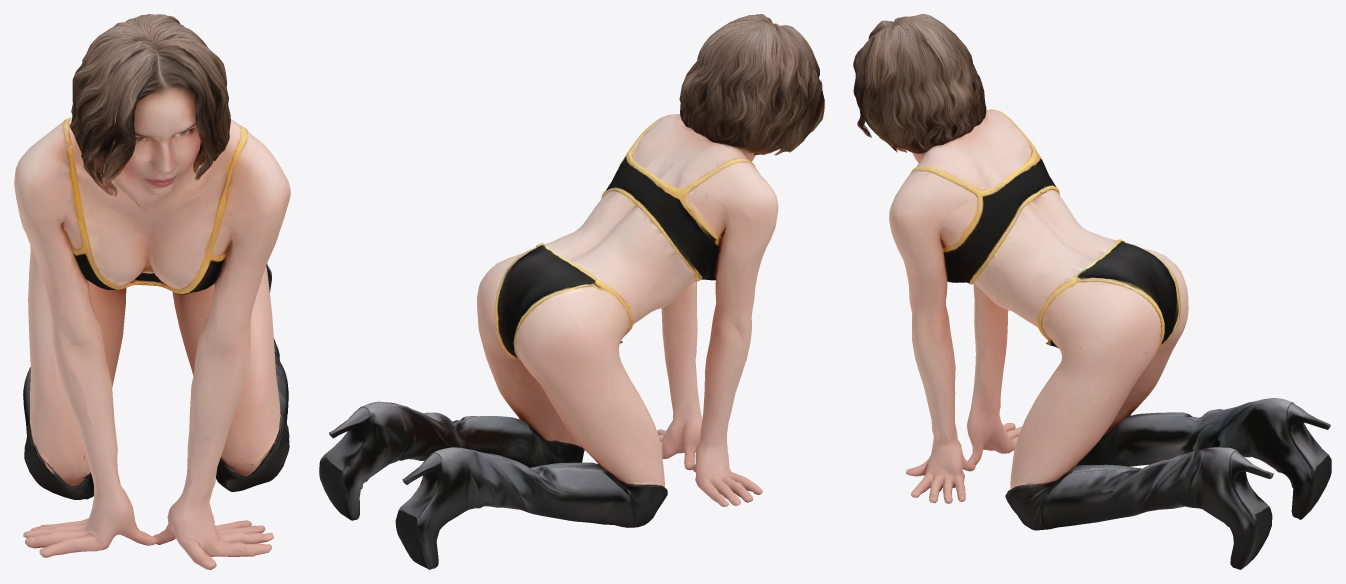
The model's file is Brothel_Bed_Woman.glb.
The picture shows the model from 3 angles, left to right: view 1: azimuth 30°, elevation 25°; view 2: azimuth 150°, elevation 25°; view 3: azimuth 270°, elevation 25°; orthographic projection. The views are drawn at different scales.
Parts seen in each view (by area): view 1: Brothel_Bed_Woman; view 2: Brothel_Bed_Woman; view 3: Brothel_Bed_Woman.
Boxes of the visible parts, x1,y1,x2,y2 form: Brothel_Bed_Woman: (14,14,290,569); Brothel_Bed_Woman: (319,14,824,569); Brothel_Bed_Woman: (853,14,1331,569).
Size of the model in its own units: 0.8555 by 1.1 by 1.1.
Materials: 1 (1 with a texture image).
